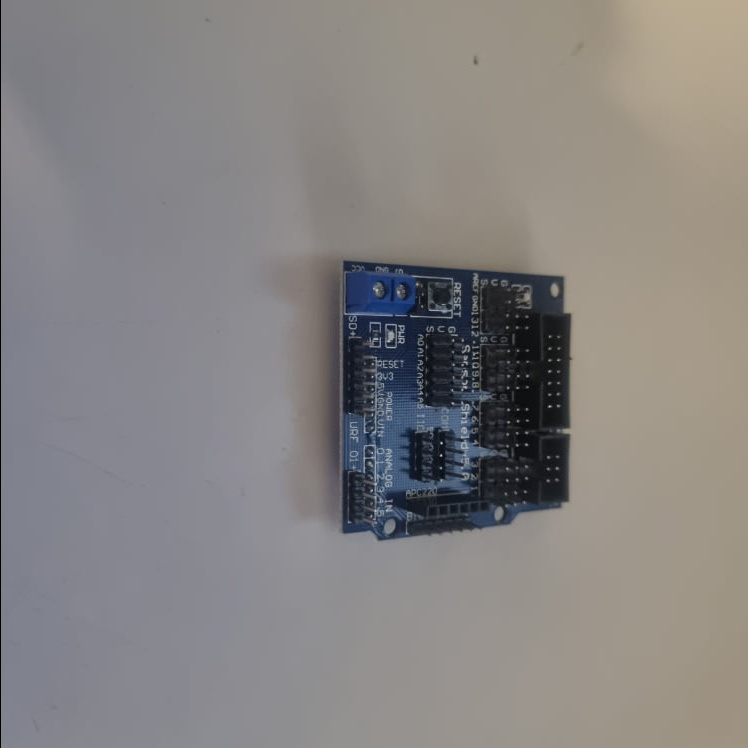5V EXPANSION: (334, 258, 577, 546)
